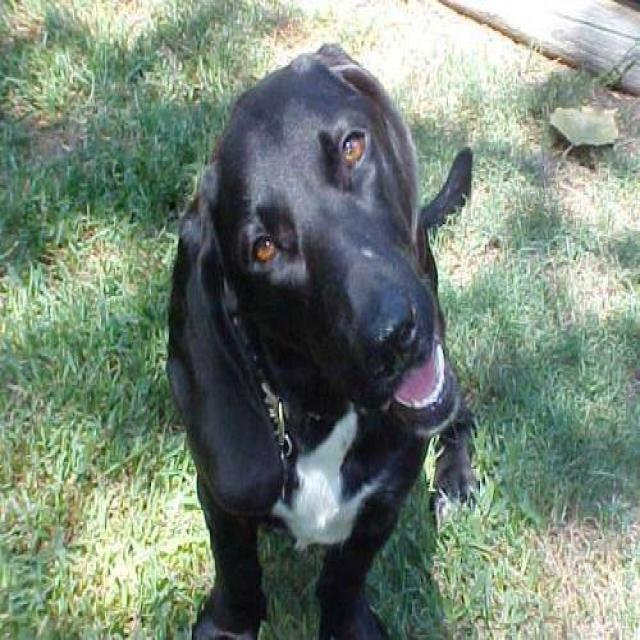dogs: (138, 29, 480, 640)
